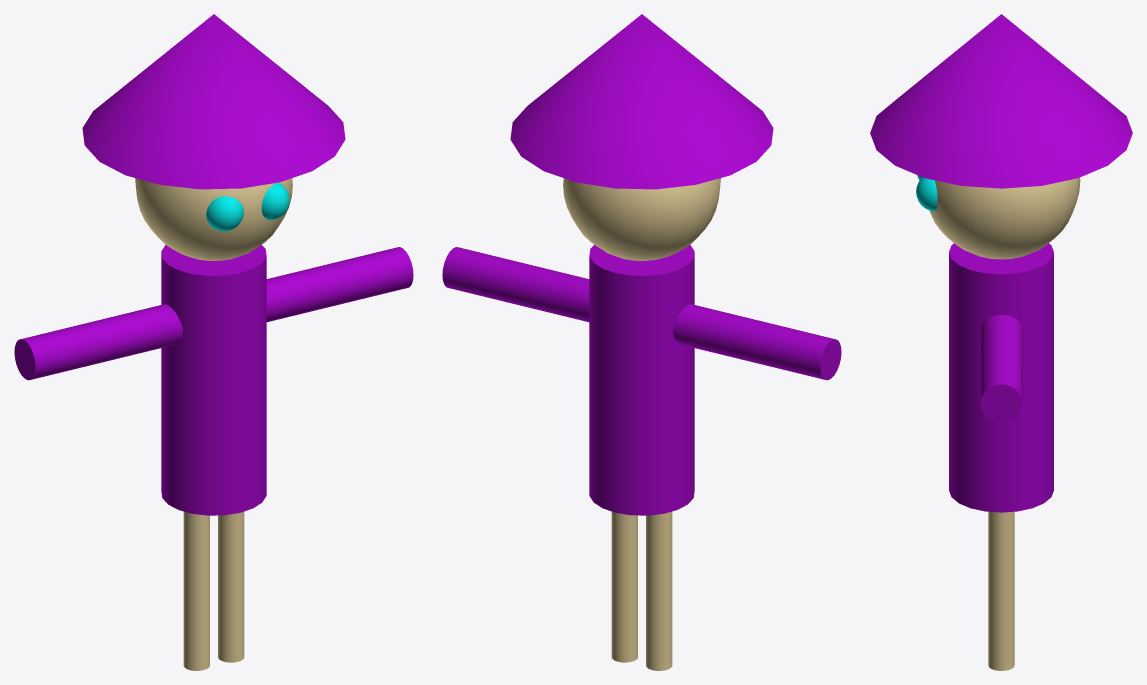
The model's file is Player2.fbx.
The picture shows the model from 3 angles, left to right: view 1: azimuth 30°, elevation 25°; view 2: azimuth 150°, elevation 25°; view 3: azimuth 270°, elevation 25°; orthographic projection.
Visible parts, largest first — view 1: pCylinder6; view 2: pCylinder6; view 3: pCylinder6.
Part boxes in pixels (x1=…): pCylinder6: x1=14, y1=14, x2=413, y2=670; pCylinder6: x1=442, y1=14, x2=841, y2=670; pCylinder6: x1=870, y1=14, x2=1132, y2=670.
Bounding box in the file's own units: 3.3 × 5.4 × 2.
